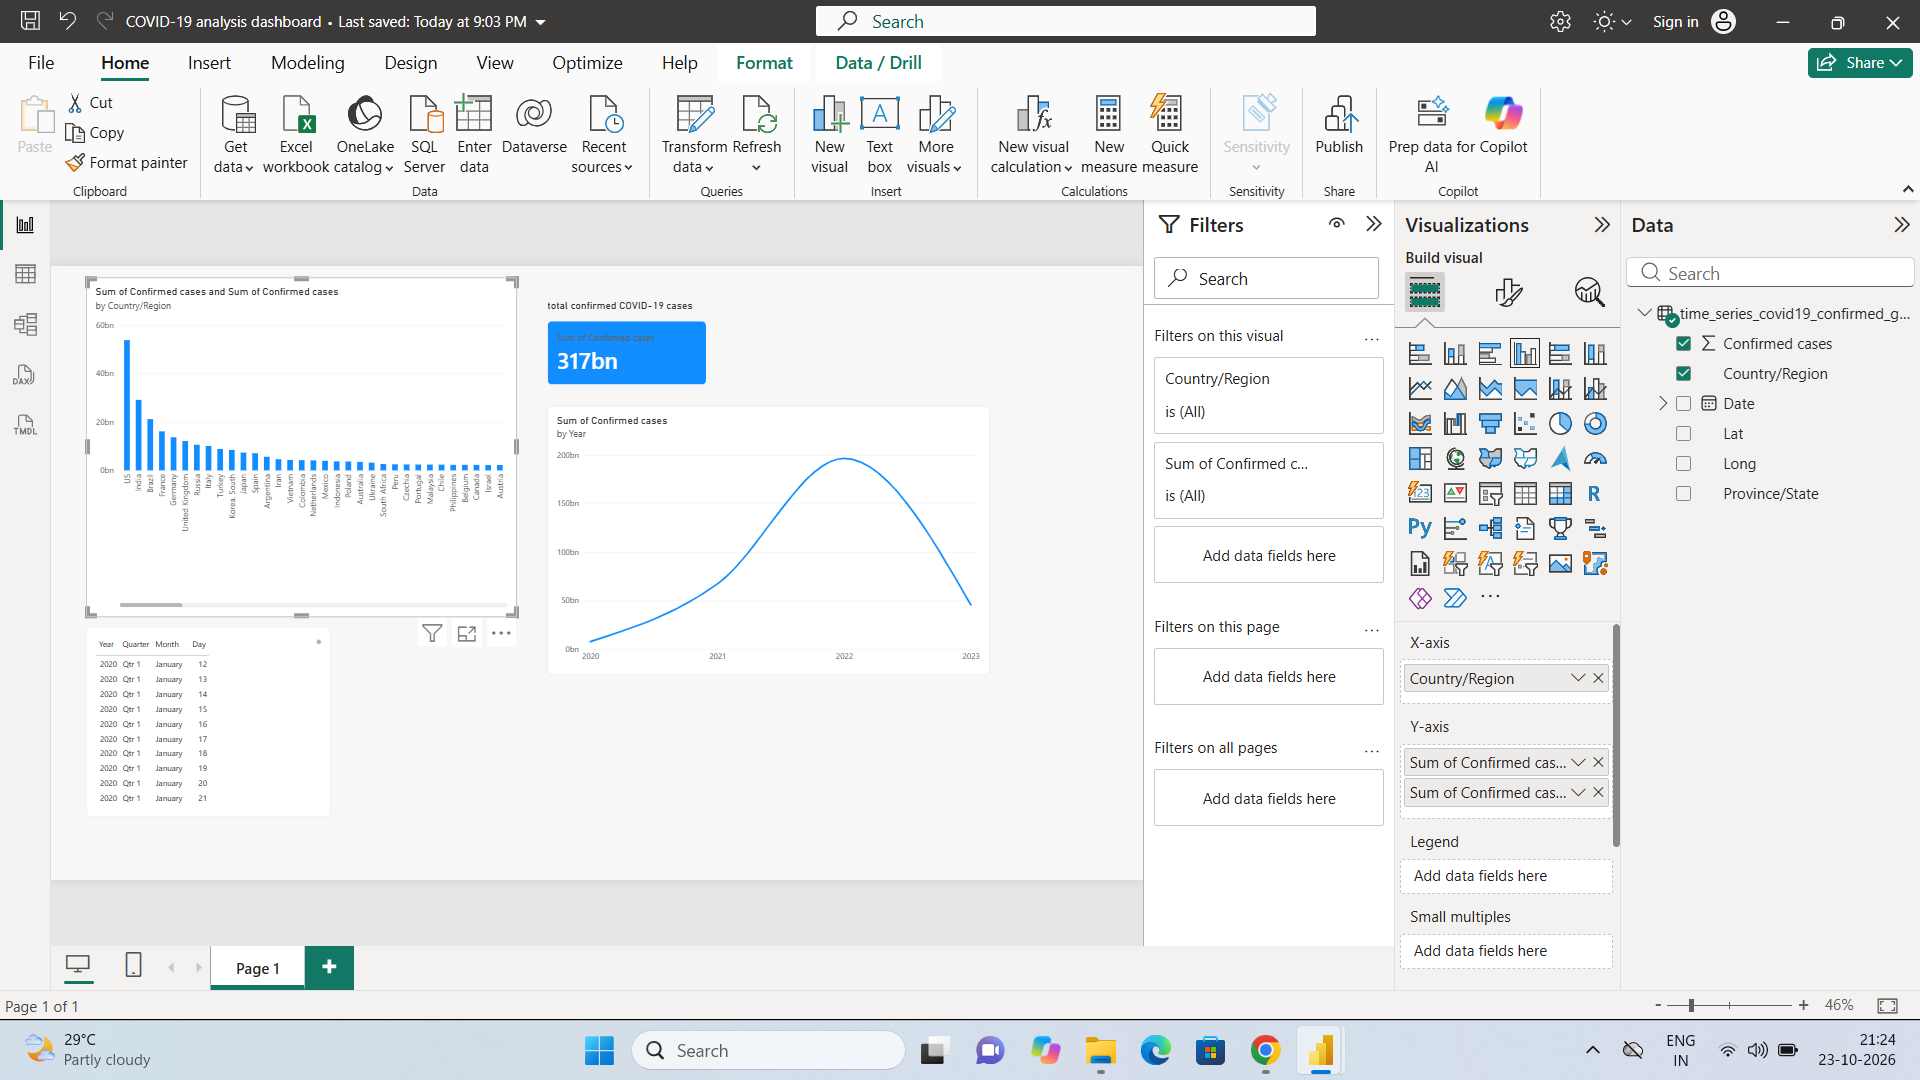

What the dashboard file says about the page in this screenshot:
{"tool":"powerbi","page":{"name":"Page 1","canvas":[1920,1080],"ordinal":0},"visuals":[{"type":"cardVisual","title":"total confirmed COVID-19 cases","fields":{"Data":["Sum(time_series_covid19_confirmed_global.Confirmed cases)"]},"box":[872.3,59.3,280,150],"z":3000},{"type":"tableEx","fields":{"Values":["time_series_covid19_confirmed_global.Date.Variation.Date Hierarchy.Year","time_series_covid19_confirmed_global.Date.Variation.Date Hierarchy.Quarter","time_series_covid19_confirmed_global.Date.Variation.Date Hierarchy.Month","time_series_covid19_confirmed_global.Date.Variation.Date Hierarchy.Day"]},"box":[61.5,635,430.7,334],"z":3002},{"type":"clusteredColumnChart","fields":{"Category":["time_series_covid19_confirmed_global.Country/Region"],"Y":["Sum(time_series_covid19_confirmed_global.Confirmed cases)","Sum(time_series_covid19_confirmed_global.Confirmed cases)"]},"box":[61.5,19.8,758.1,597.7],"z":3003},{"type":"lineChart","fields":{"Category":["time_series_covid19_confirmed_global.Date.Variation.Date Hierarchy.Year","time_series_covid19_confirmed_global.Date.Variation.Date Hierarchy.Quarter","time_series_covid19_confirmed_global.Date.Variation.Date Hierarchy.Month","time_series_covid19_confirmed_global.Date.Variation.Date Hierarchy.Day"],"Y":["Sum(time_series_covid19_confirmed_global.Confirmed cases)"]},"box":[872.3,246.1,777.8,472.4],"z":3004}]}

Visuals, with their boxes on the page's 1920x1080 design canvas (x1, y1, x2, y2). These are canvas units, not pixel positions in the 1920x1080 screenshot, which may show the page scaled, cropped or inside an application window:
"total confirmed COVID-19 cases" cardVisual: [872, 59, 1152, 209]
tableEx - time_series_covid19_confirmed_global.Date.Variation.Date Hierarchy.Year x time_series_covid19_confirmed_global.Date.Variation.Date Hierarchy.Quarter: [62, 635, 492, 969]
clusteredColumnChart - time_series_covid19_confirmed_global.Country/Region x Sum(time_series_covid19_confirmed_global.Confirmed cases): [62, 20, 820, 618]
lineChart - time_series_covid19_confirmed_global.Date.Variation.Date Hierarchy.Year x time_series_covid19_confirmed_global.Date.Variation.Date Hierarchy.Quarter: [872, 246, 1650, 718]
